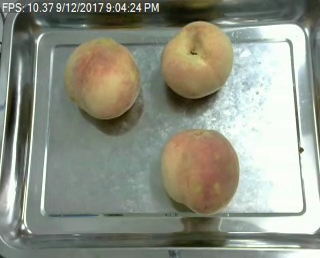Peach: (157, 129, 238, 213), (65, 36, 139, 118), (160, 20, 233, 99)
